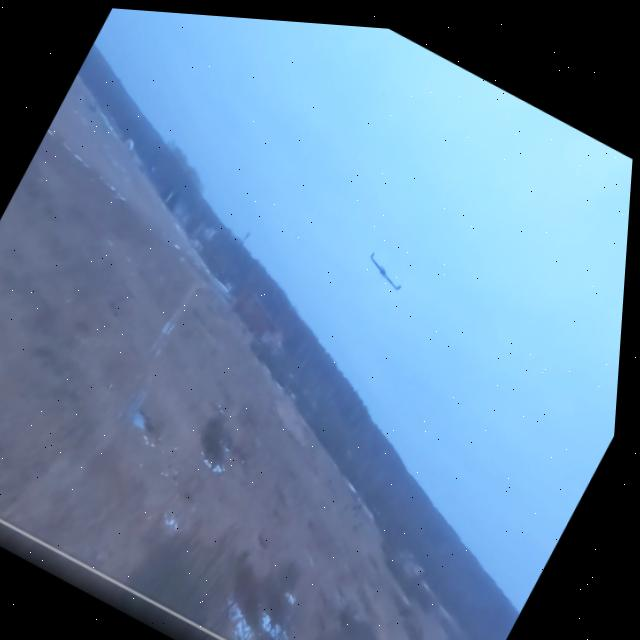planedrone: (357, 251, 413, 296)
